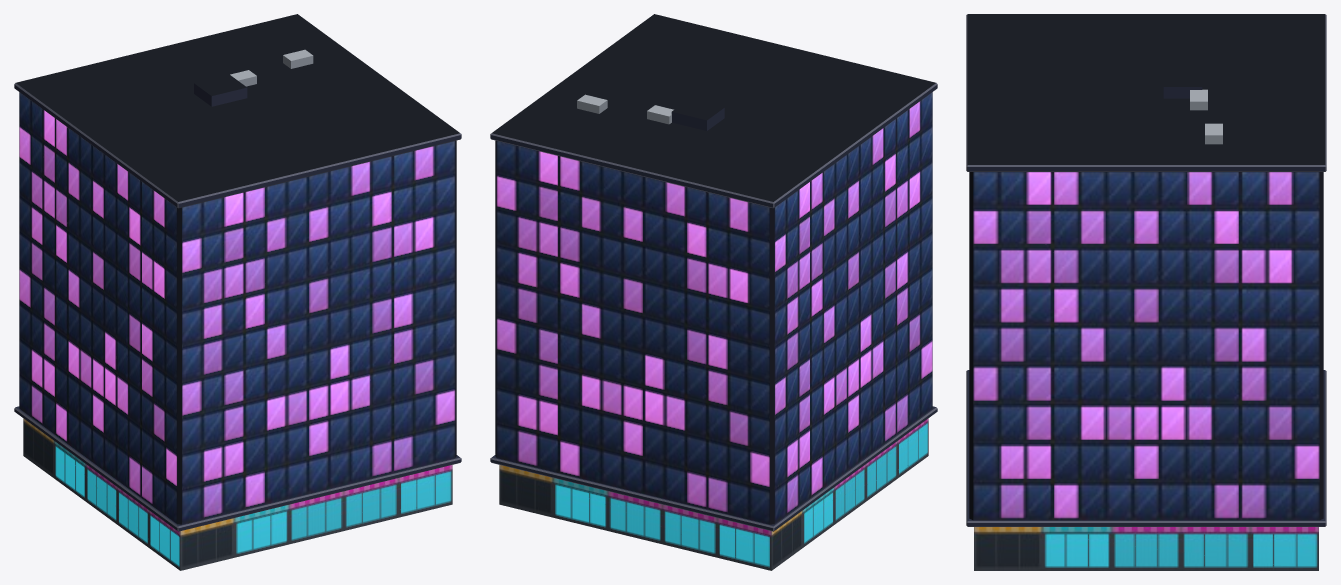
File: building-28x28x36.glb
The picture shows the model from 3 angles, left to right: view 1: azimuth 30°, elevation 25°; view 2: azimuth 150°, elevation 25°; view 3: azimuth 270°, elevation 25°; orthographic projection. The views are drawn at different scales.
Parts seen in each view (by area): view 1: building-28x28x36; view 2: building-28x28x36; view 3: building-28x28x36.
Part boxes in pixels (x1,y1,x2,y2): building-28x28x36: (14,14,461,570); building-28x28x36: (490,14,937,570); building-28x28x36: (966,14,1326,570).
Bounding box in the file's own units: 28 × 36 × 28.
Materials: 1 (1 with a texture image).
